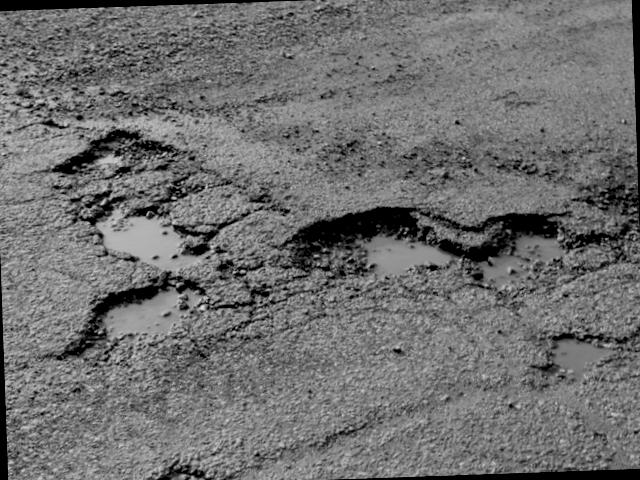Pothole: (278, 187, 640, 457), (42, 103, 222, 384)
